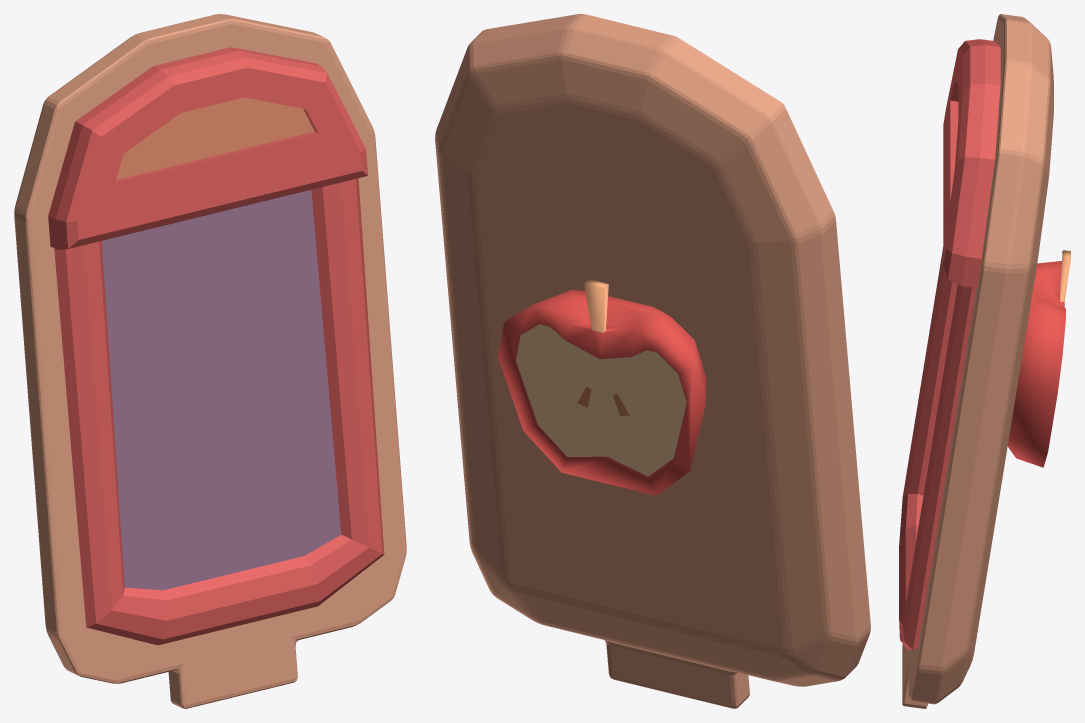
Rendered from 532_ghosting_screen.fbx.
3 views of the same model, side by side, from view 1: azimuth 30°, elevation 25°; view 2: azimuth 150°, elevation 25°; view 3: azimuth 270°, elevation 25° (orthographic). The views are drawn at different scales.
Parts seen in each view (by area): view 1: phone_screen.002; view 2: phone_screen.002; view 3: phone_screen.002.
Part boxes in pixels (bbox=[...]): phone_screen.002: bbox=[14, 14, 406, 708]; phone_screen.002: bbox=[435, 14, 870, 708]; phone_screen.002: bbox=[899, 14, 1070, 708].
Bounding box in the file's own units: 162 × 281 × 68.06.
